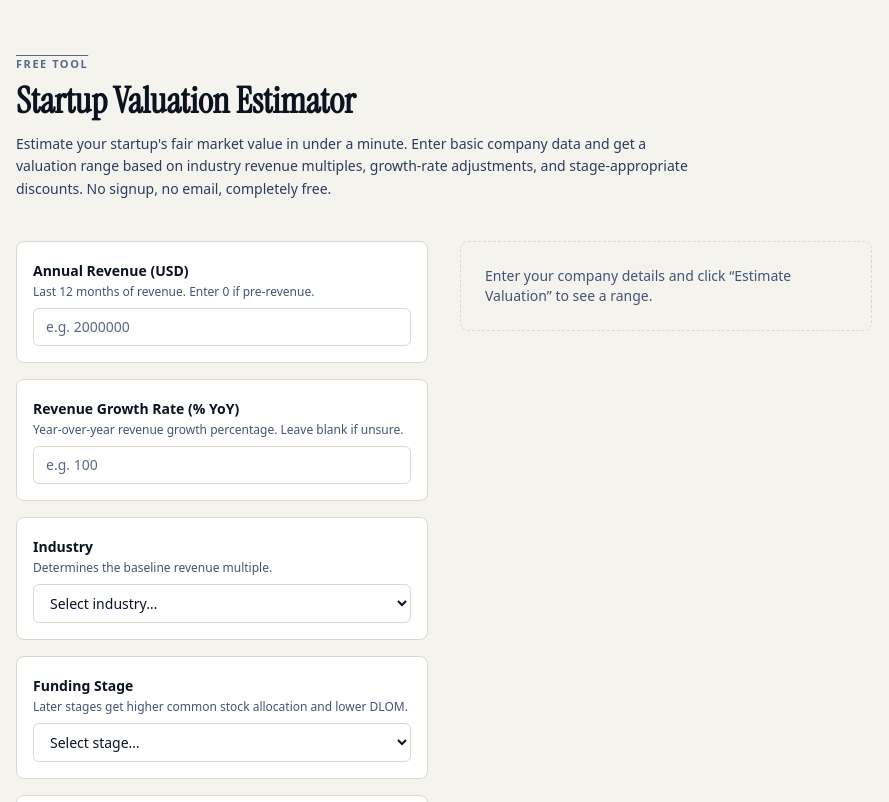
Scenario: ValuationEstimatorPage › uses funding floor for pre-revenue companies
# Pre-revenue company with $3M raised
In the number field labelled "Annual Revenue (USD)": (222, 327) [33,308,411,346], type "0"
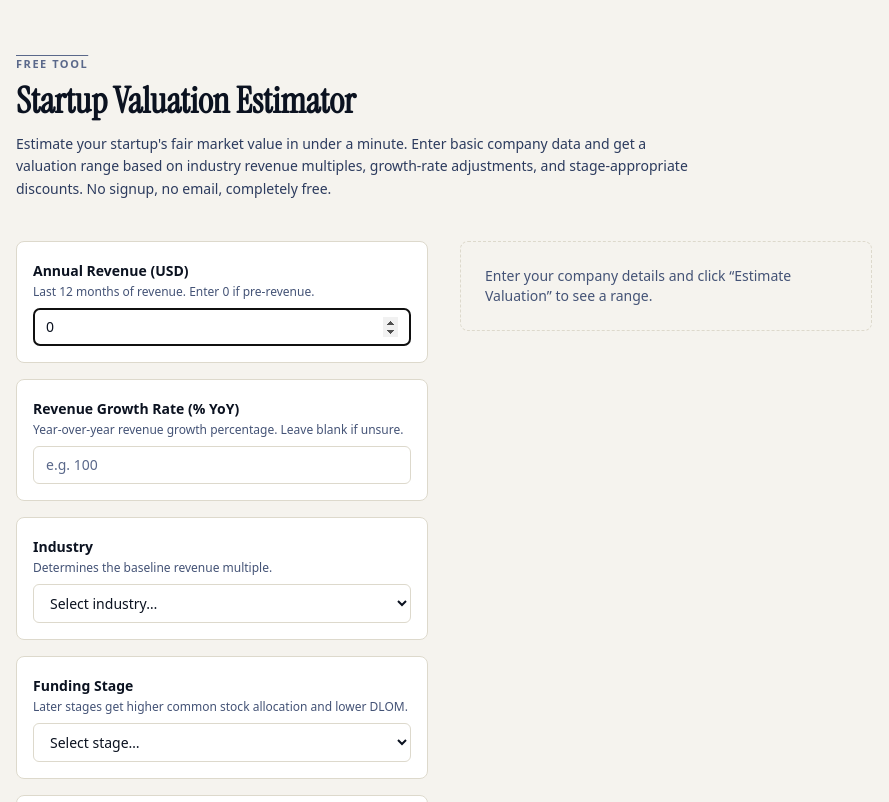
Select "SaaS / Cloud Software" in the dropdown labelled "Industry": (222, 603) [33,584,411,623]
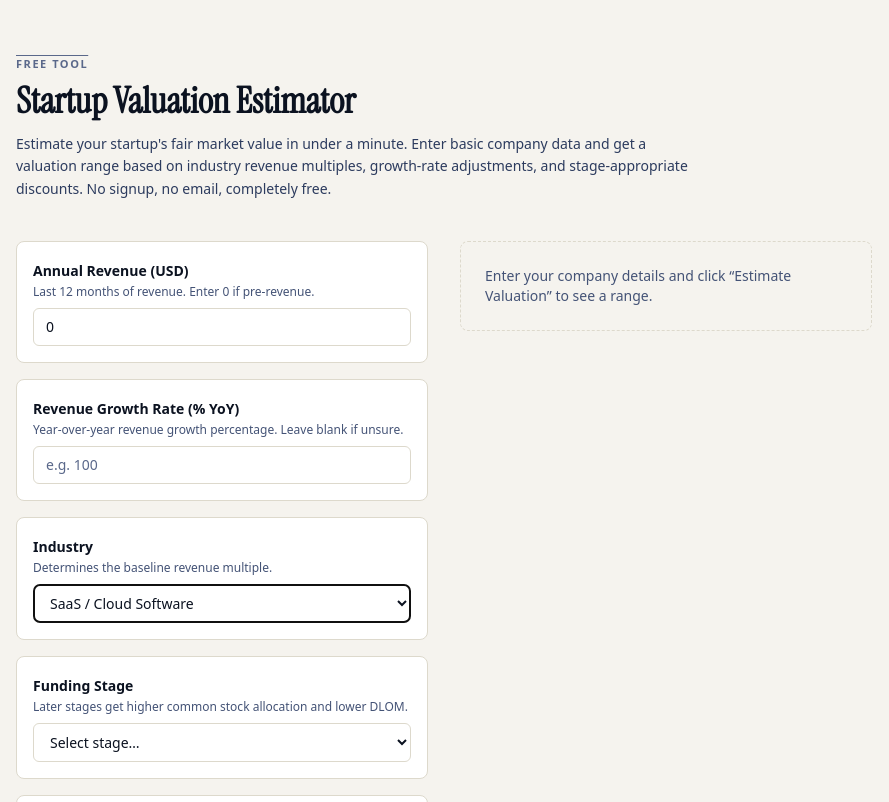
Select "Seed" in the dropdown labelled "Funding Stage": (222, 742) [33,723,411,762]
(page scrolled)
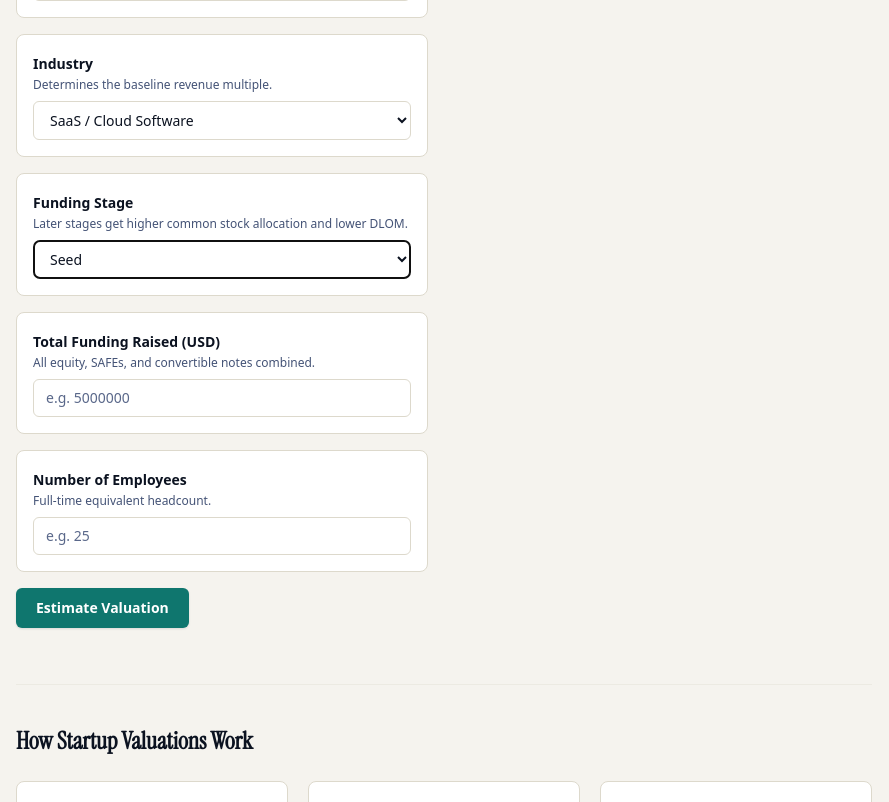
In the number field labelled "Total Funding Raised (USD)": (222, 398) [33,379,411,417], type "3000000"
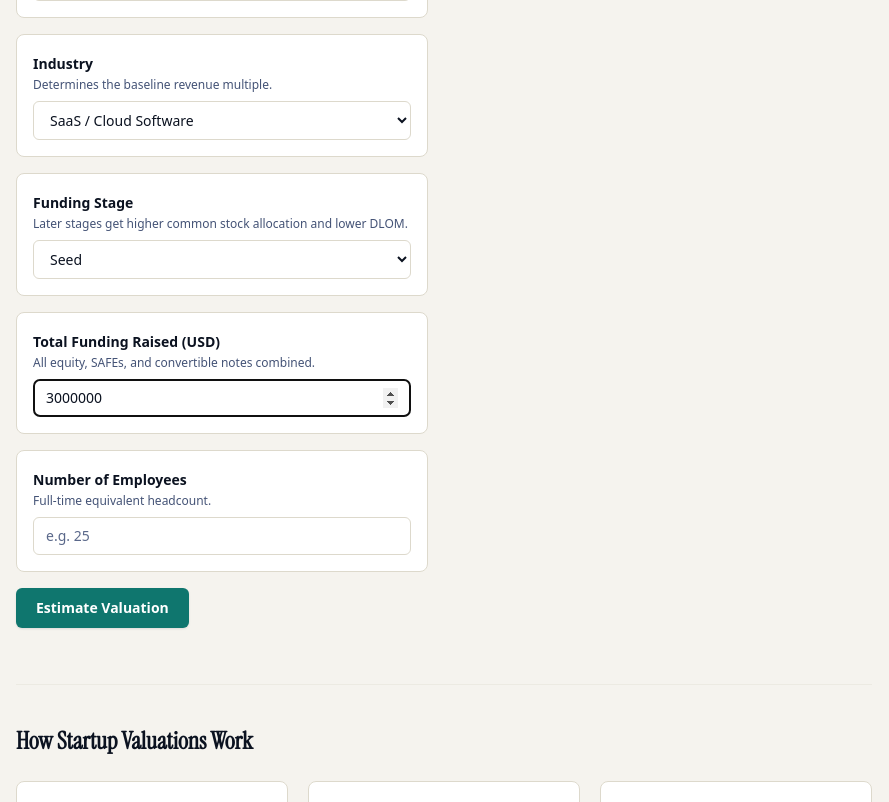
Click the button with test id "estimate-button": click(102, 608) [16,588,189,628]
(page scrolled)
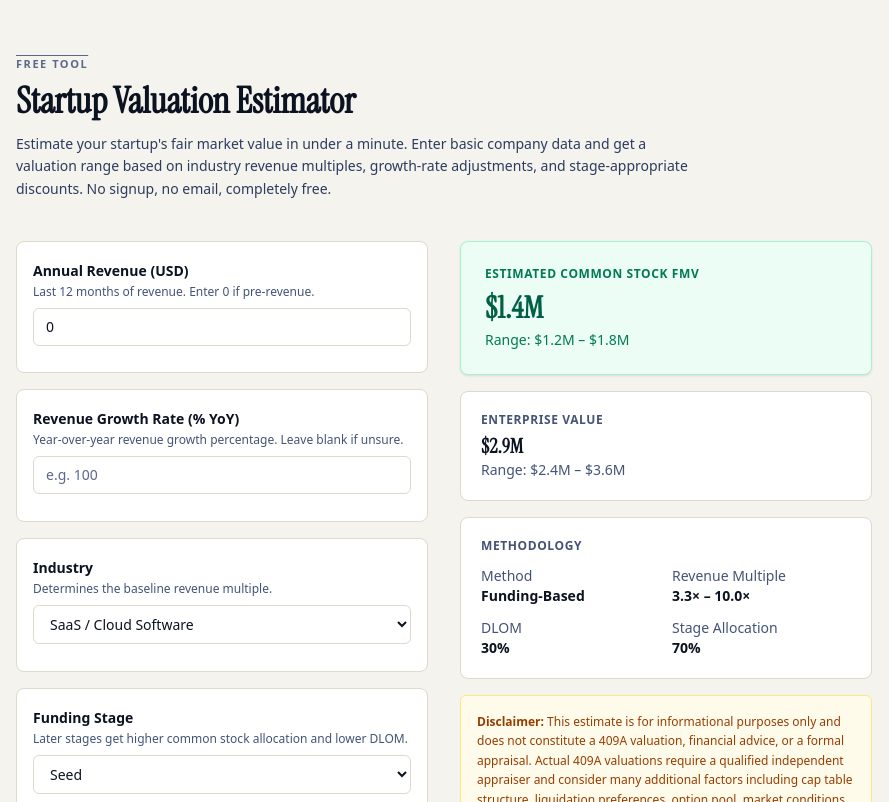
Expected: the text with test id "method" reads "Funding-Based", [481,586,585,605]
Expected: the text "$1.4M" is shown, [485,290,543,326]
